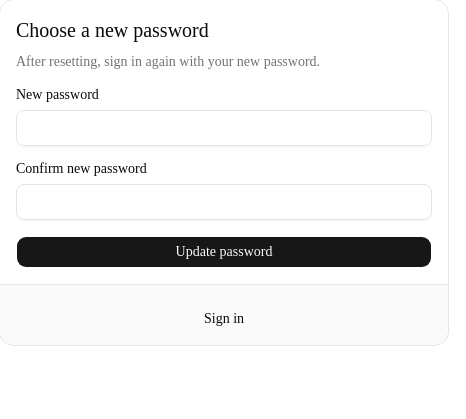
Scenario: ResetPasswordForm › surfaces invalid-token message from API
The image size is (466, 419).
Type "goodpass888" into the password field labelled "New password" at coordinates (224, 128), box [16,110,432,146]
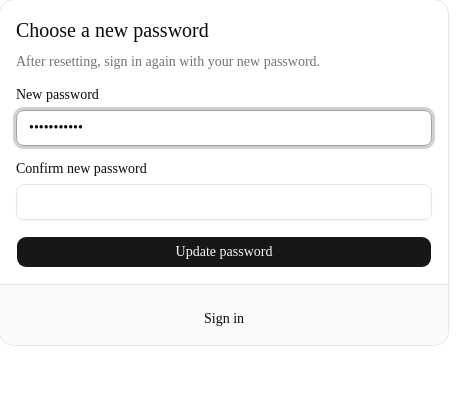
Type "goodpass888" into the password field labelled "Confirm new password" at coordinates (224, 202), box [16,184,432,220]
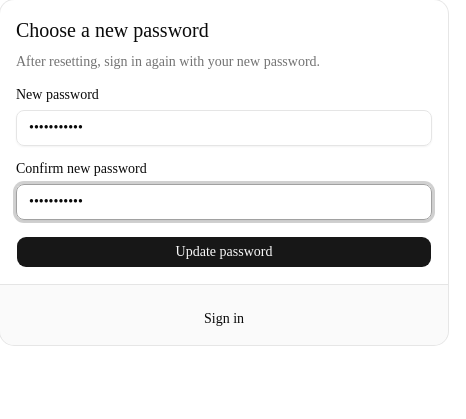
Click the button "Update password" at coordinates (224, 252), box [16,236,432,268]
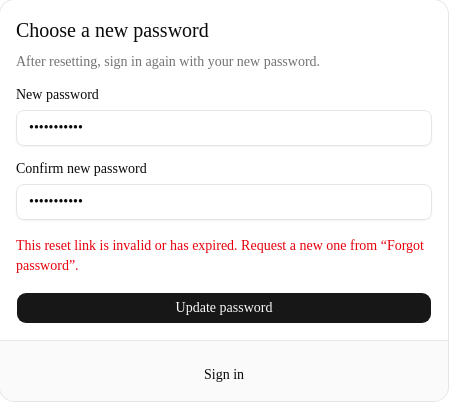
Expected: the text "invalid or has expired" is shown, [16,238,424,273]
